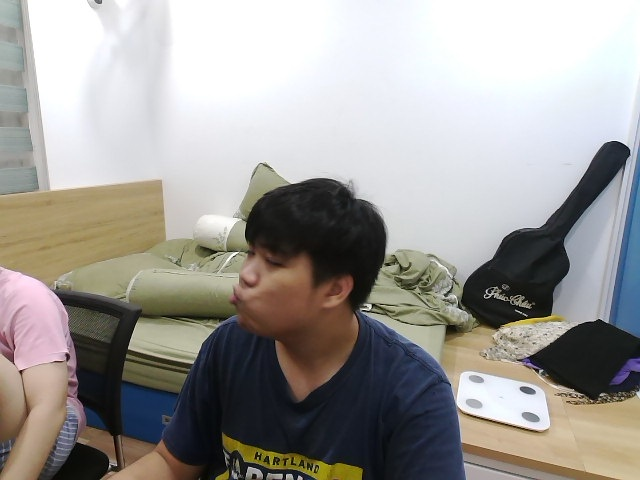face: (229, 177, 387, 339)
